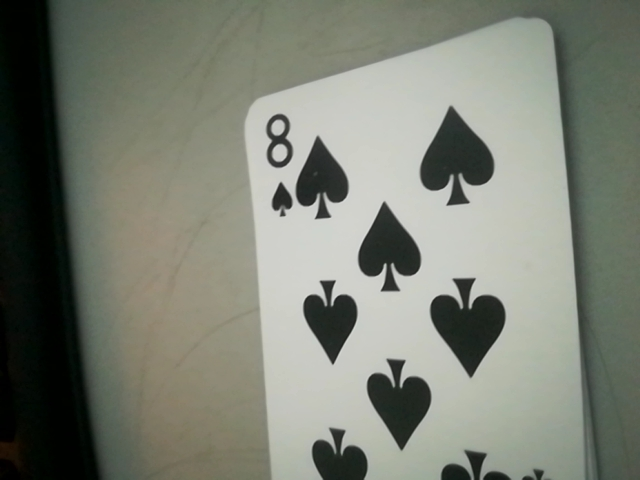ht 8: (249, 99, 312, 233)
